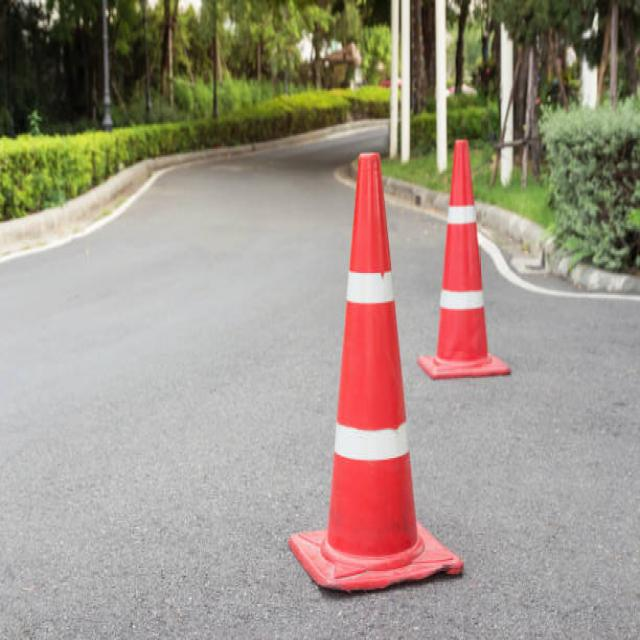Traffic Cone: (274, 124, 479, 610), (410, 125, 522, 398)
